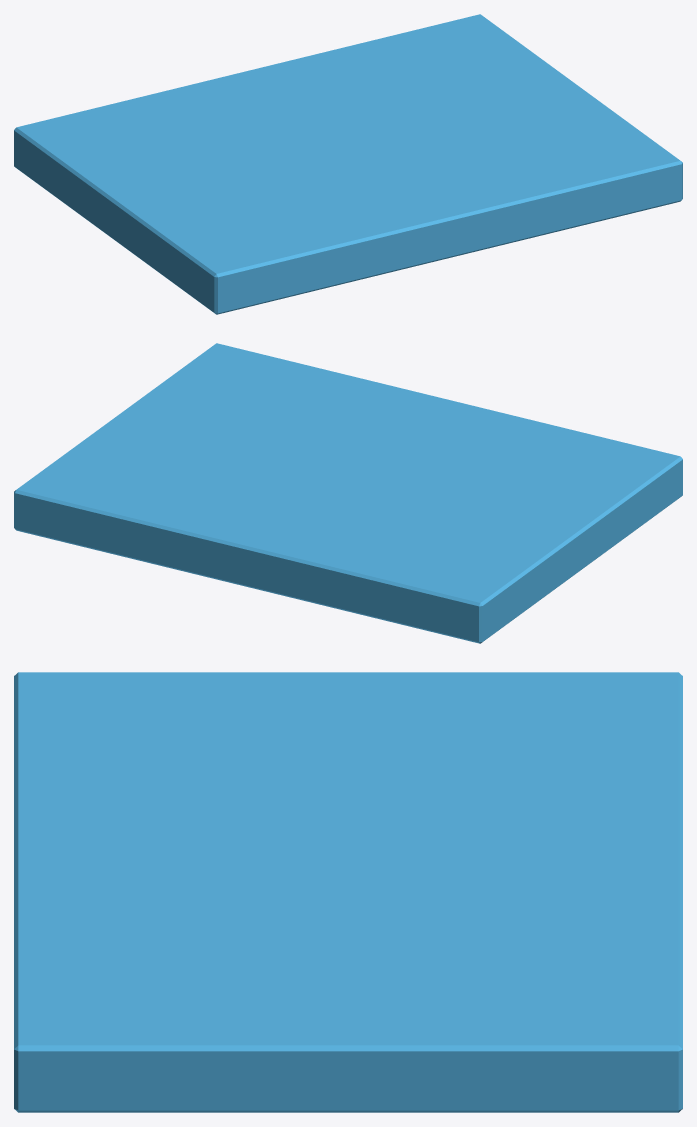
The model's file is water_pool.glb.
The picture shows the model from 3 angles, top to bottom: view 1: azimuth 30°, elevation 25°; view 2: azimuth 150°, elevation 25°; view 3: azimuth 270°, elevation 25°; orthographic projection. The views are drawn at different scales.
Visible parts, largest first — view 1: water_pool; view 2: water_pool; view 3: water_pool.
Part boxes in pixels (left/top/right/bottom): water_pool: left=14, top=14, right=682, bottom=314; water_pool: left=14, top=343, right=682, bottom=643; water_pool: left=14, top=672, right=682, bottom=1112.
Bounding box in the file's own units: 1.2 × 0.1 × 0.9.
